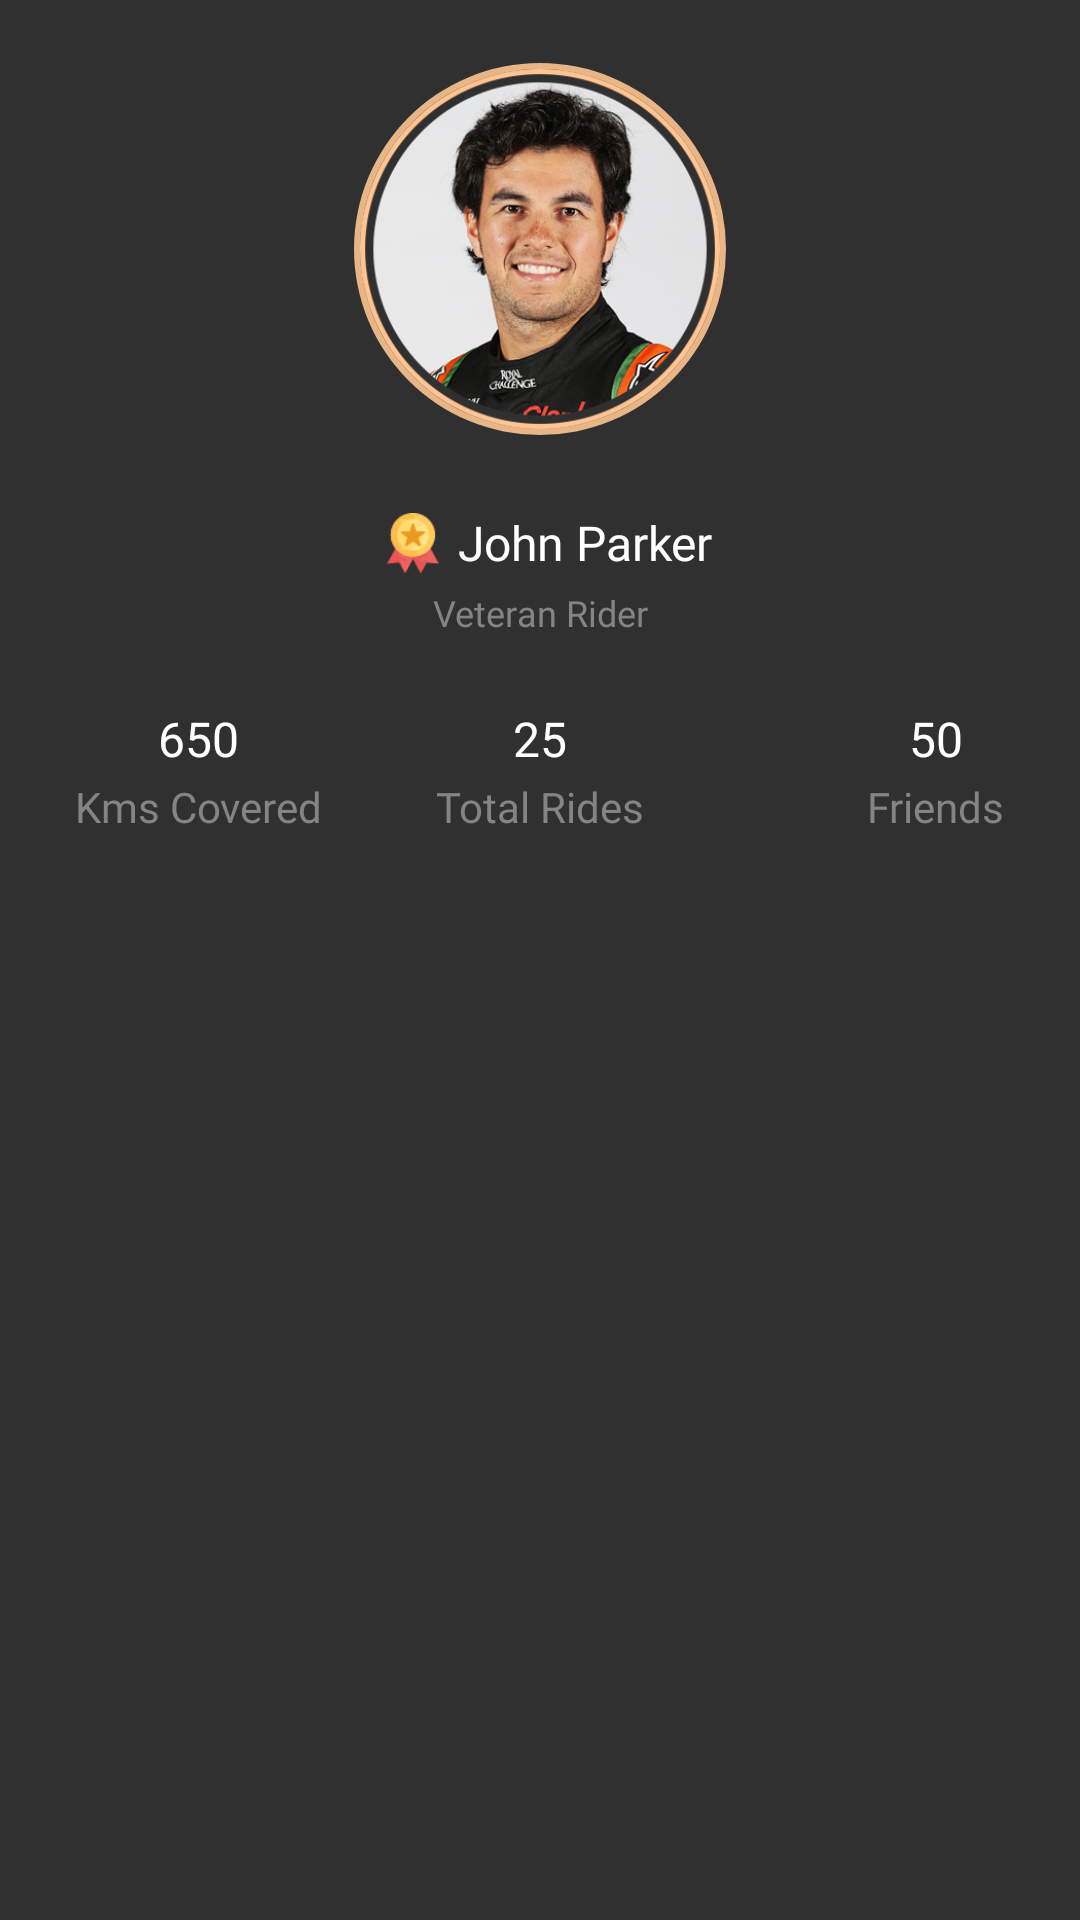

Where to tap for icons on this 1080px x 1920px app screen, as [x,y]:
medal: [413,543]
